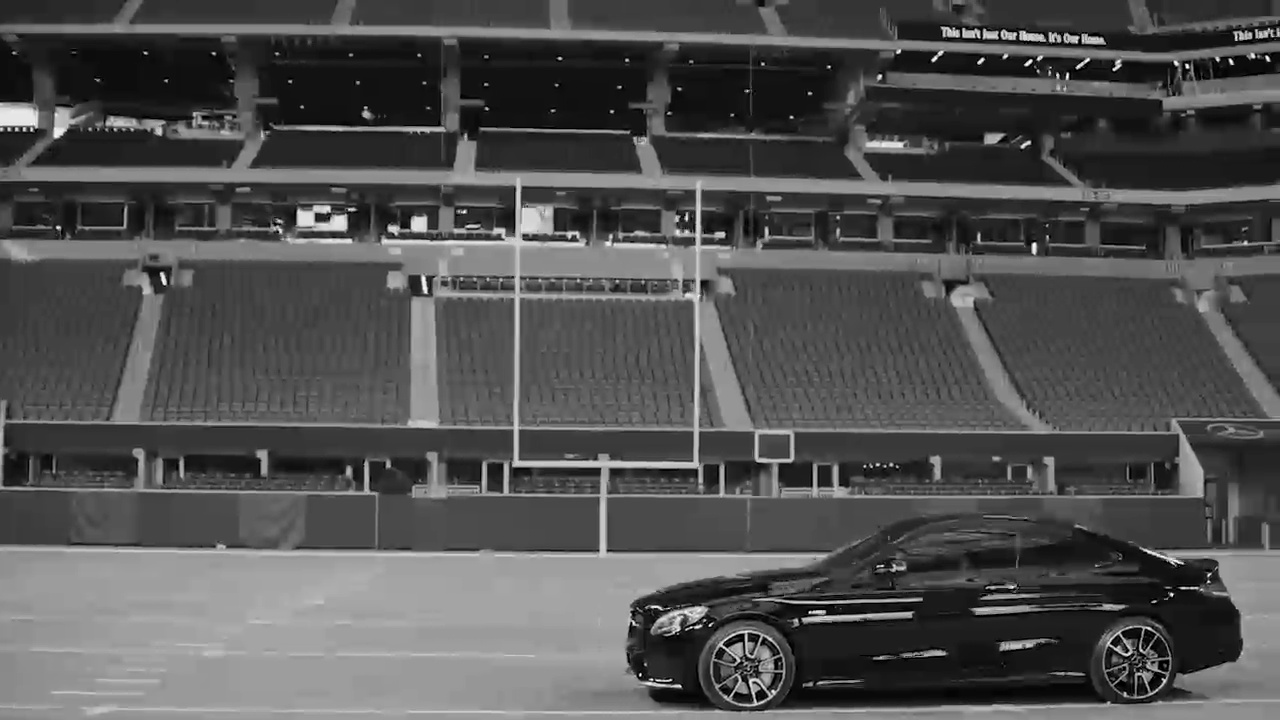car: (618, 519, 1251, 720)
